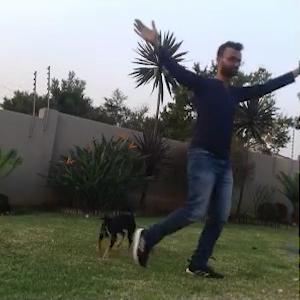takeoff: (101, 37, 276, 255)
